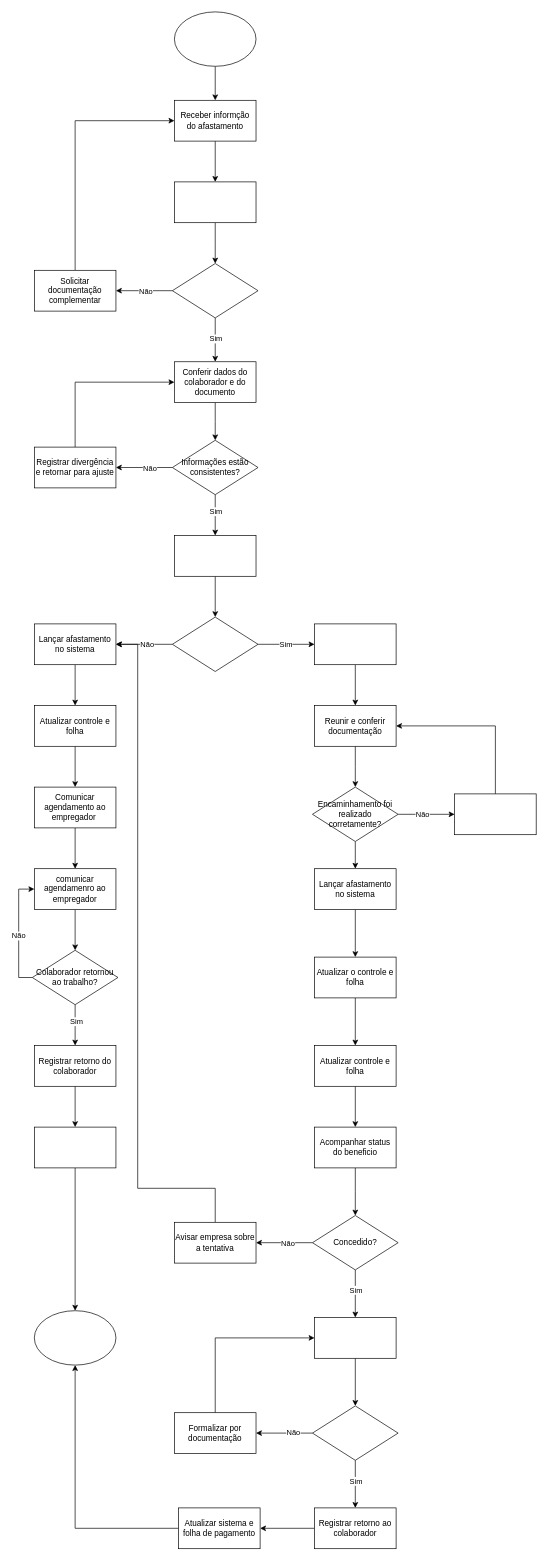
The diagram is 548 pixels wide and 1561 high, and some of its shapes have lost their labels. Here are the shapes that lost their labels. From the top down, the box of each, then its label:
(174, 11, 256, 66): Início (Afastamenro do colaborador)
(174, 181, 256, 223): identificar tipo de afastamento
(172, 263, 258, 318): Documentação correta?
(174, 535, 256, 576): Verificar dias de afastamento
(172, 616, 258, 672): Exige encaminhamento do INSS?
(314, 623, 396, 665): Orientar empresa/ colaborador sobre o encaminhamento ao INSS
(454, 793, 536, 835): Solicitar regularização
(34, 1126, 116, 1168): atualizar sistema, folha e controle
(34, 1310, 116, 1365): Fim
(314, 1317, 396, 1358): Receber informação de retorno, informar cliente
(312, 1405, 398, 1460): Retorno foi formalizado ao cliente?
